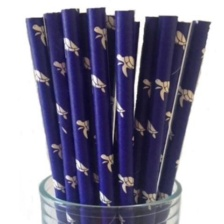drinking_straw: (59, 3, 101, 224), (112, 6, 138, 223)
glass: (33, 168, 189, 224)
